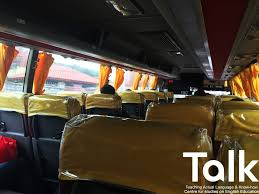seat: (31, 87, 84, 149)
